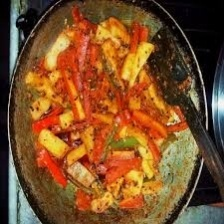sabzi: (22, 3, 194, 219)
